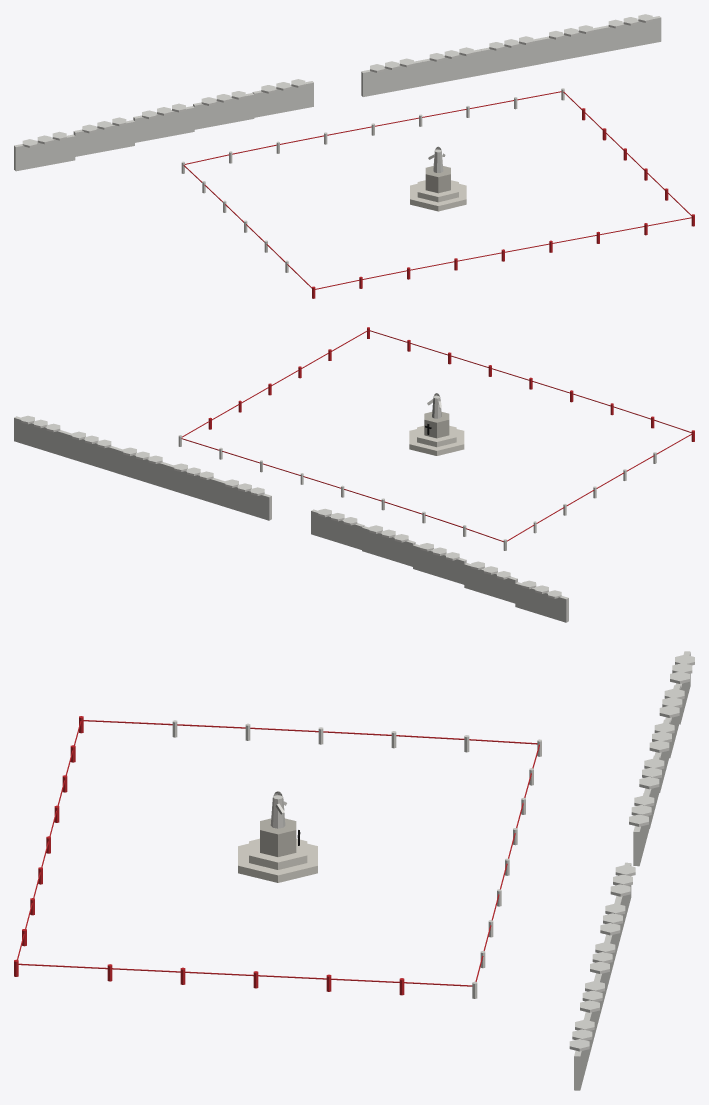
File: sa_grounds.glb
The picture shows the model from 3 angles, top to bottom: view 1: azimuth 30°, elevation 25°; view 2: azimuth 150°, elevation 25°; view 3: azimuth 270°, elevation 25°; orthographic projection. The views are drawn at different scales.
Visible parts, largest first — view 1: sa_grounds_lod0; view 2: sa_grounds_lod0; view 3: sa_grounds_lod0.
Part boxes in pixels (left/top/right/bottom): sa_grounds_lod0: left=14, top=14, right=694, bottom=298; sa_grounds_lod0: left=14, top=327, right=694, bottom=622; sa_grounds_lod0: left=14, top=651, right=694, bottom=1090.
Size of what is drawn, in the model's own units: 47.34 by 4.57 by 32.47.
